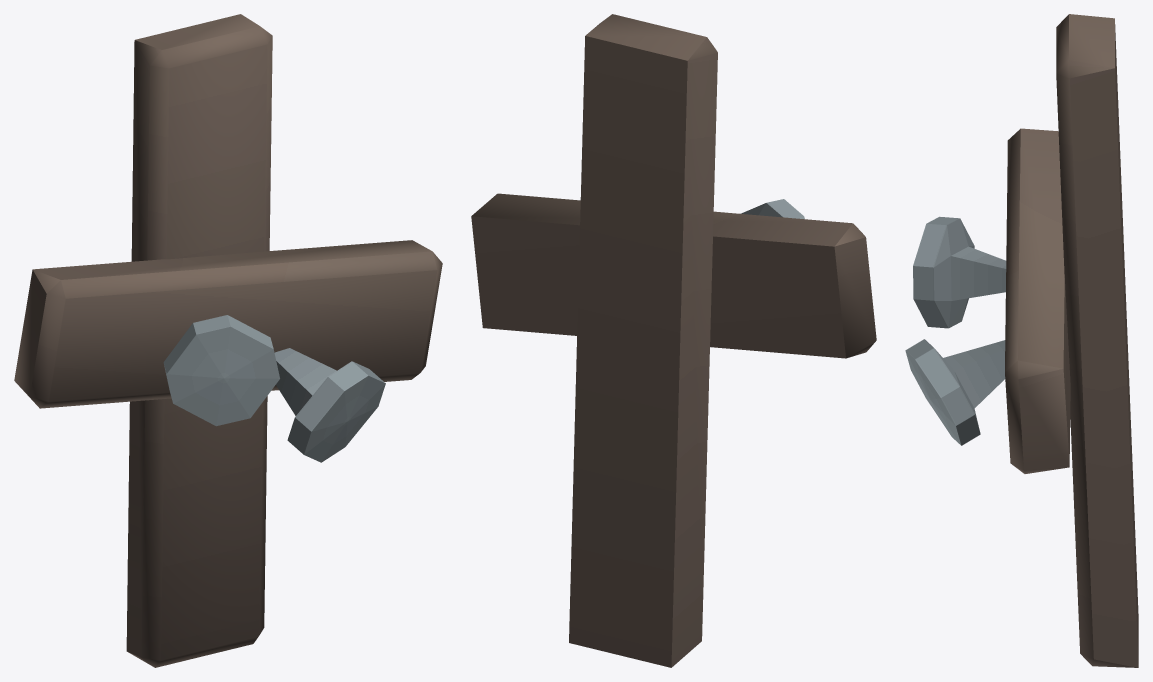
The model's file is hb_gravemarker_b.glb.
3 views of the same model, side by side, from view 1: azimuth 30°, elevation 25°; view 2: azimuth 150°, elevation 25°; view 3: azimuth 270°, elevation 25° (orthographic). The views are drawn at different scales.
Visible parts, largest first — view 1: gravemarker_B; view 2: gravemarker_B; view 3: gravemarker_B.
Boxes of the visible parts, left/top/right/bottom form: gravemarker_B: left=14, top=14, right=442, bottom=667; gravemarker_B: left=471, top=14, right=876, bottom=667; gravemarker_B: left=905, top=14, right=1138, bottom=667.
Bounding box in the file's own units: 0.6126 × 0.9 × 0.3153.
Materials: 1 (1 with a texture image).
